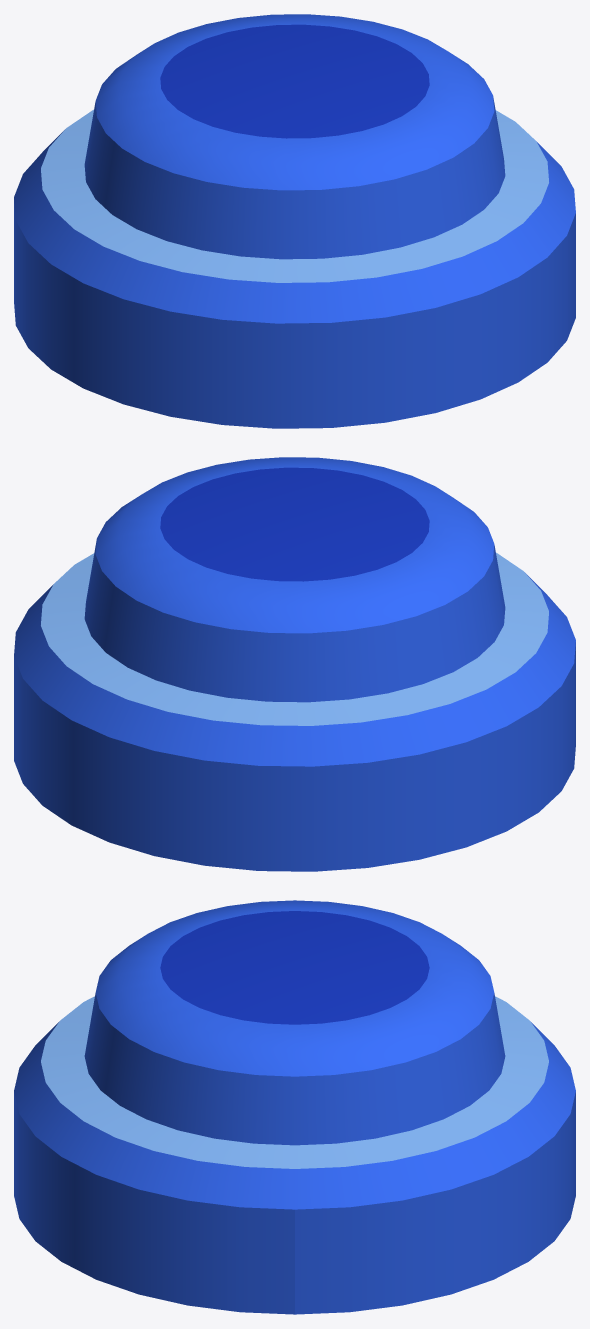
Rendered from breakout_ball.fbx.
3 renders of one model, top to bottom at view 1: azimuth 30°, elevation 25°; view 2: azimuth 150°, elevation 25°; view 3: azimuth 270°, elevation 25°, orthographic.
Visible parts, largest first — view 1: ball; view 2: ball; view 3: ball.
Part boxes in pixels (bbox=[...]): ball: bbox=[14, 14, 575, 428]; ball: bbox=[14, 457, 575, 871]; ball: bbox=[14, 900, 575, 1314].
Bounding box in the file's own units: 100 × 44.76 × 100.
